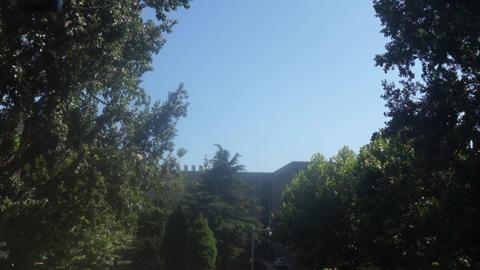UAV: (217, 193, 227, 196)
